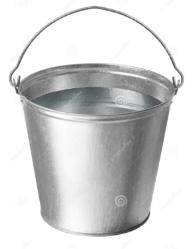SEAU: (9, 0, 192, 243)
